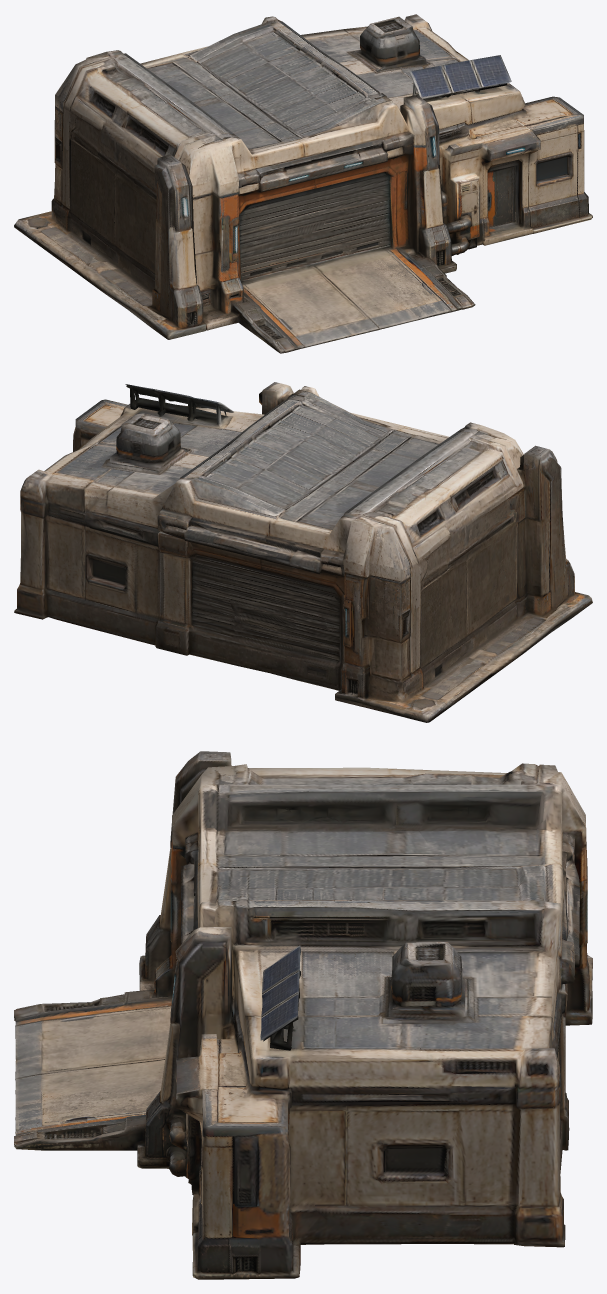
File: dune-building-1.glb
3 views of the same model, one above another, from view 1: azimuth 30°, elevation 25°; view 2: azimuth 150°, elevation 25°; view 3: azimuth 270°, elevation 25° (orthographic). The views are drawn at different scales.
Visible parts, largest first — view 1: tripo_node_ab10aa48-ef5a-49e4-abda-c95bb454a9ca; view 2: tripo_node_ab10aa48-ef5a-49e4-abda-c95bb454a9ca; view 3: tripo_node_ab10aa48-ef5a-49e4-abda-c95bb454a9ca.
Boxes of the visible parts, x1,y1,x2,y2 form: tripo_node_ab10aa48-ef5a-49e4-abda-c95bb454a9ca: (14,14,592,353); tripo_node_ab10aa48-ef5a-49e4-abda-c95bb454a9ca: (14,382,592,722); tripo_node_ab10aa48-ef5a-49e4-abda-c95bb454a9ca: (14,751,592,1279).
Bounding box in the file's own units: 16 × 5.68 × 12.35.
Materials: 1 (1 with a texture image).
